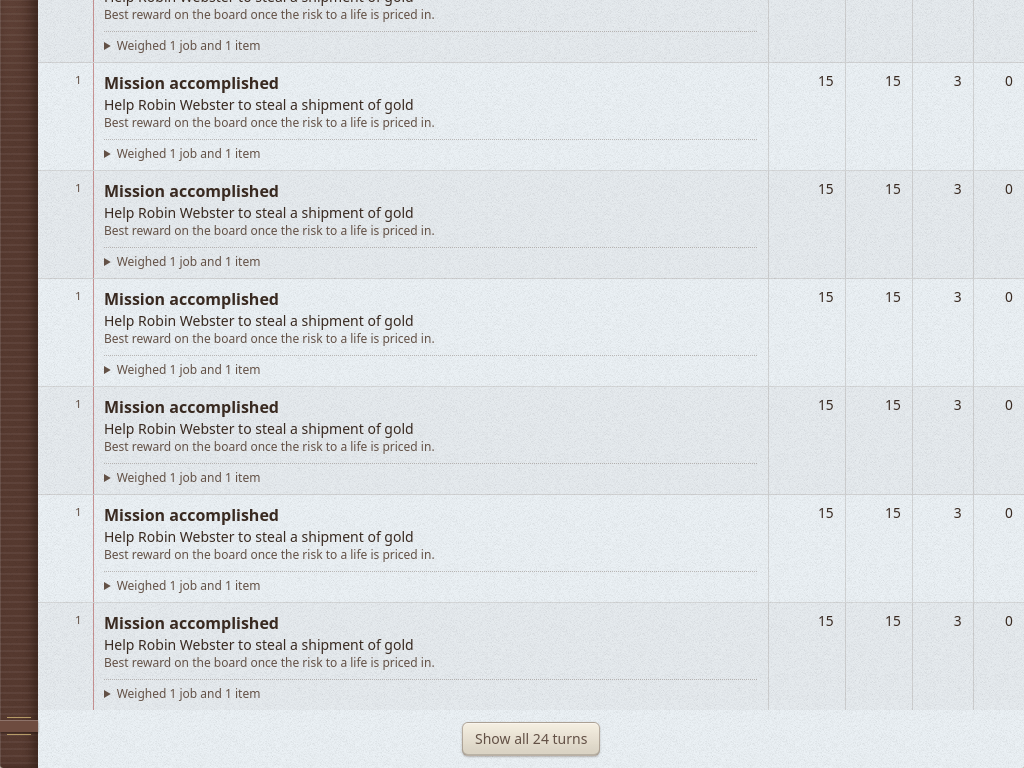
Test case: DecisionLog › draws the newest ten turns and offers the rest
(page scrolled)
Click the button "Show all 24 turns": (531,738) [462,722,600,756]
(page scrolled)
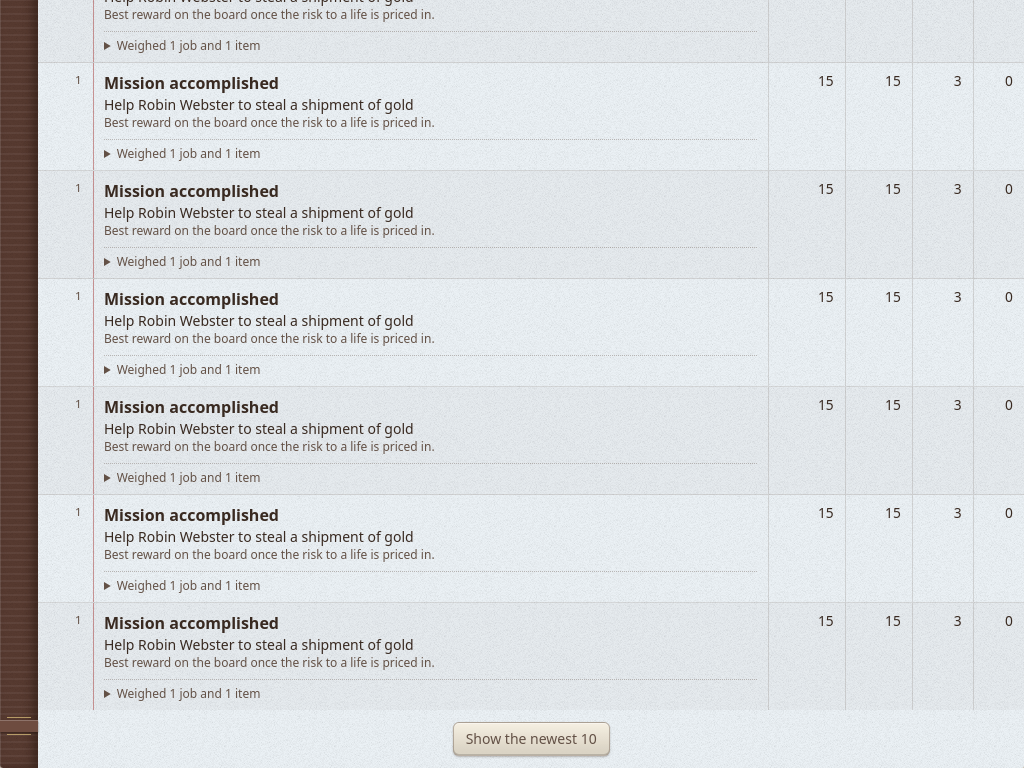
Expected: the button "Show all 24 turns" no longer shows "Show all 24 turns"
